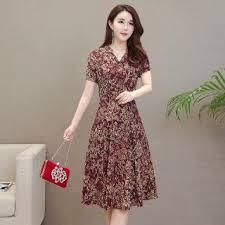dress: (82, 44, 160, 214)
